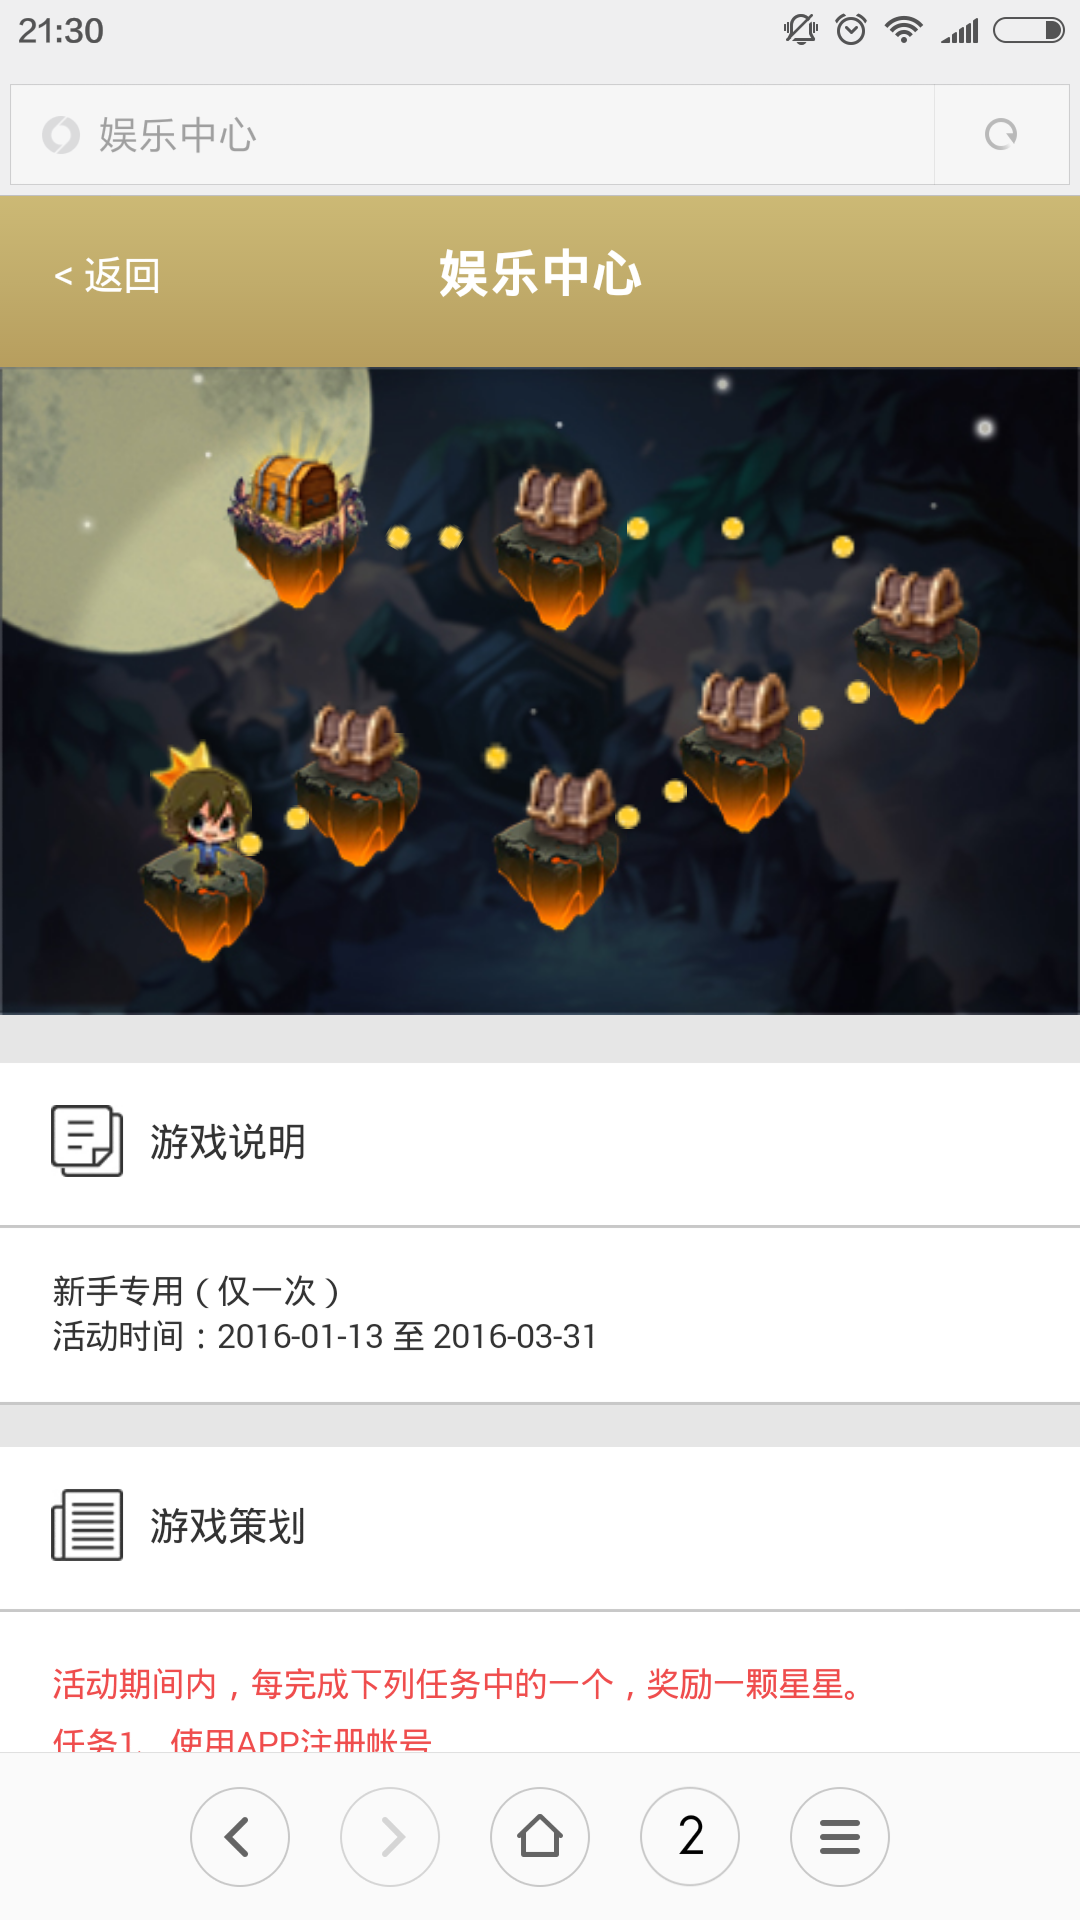button: (41, 231, 182, 320)
imgbutton: (769, 1772, 914, 1902), (171, 1772, 302, 1896), (484, 1763, 597, 1905), (335, 1763, 447, 1900), (632, 1778, 746, 1900)
textview: (4, 1059, 1080, 1411)
